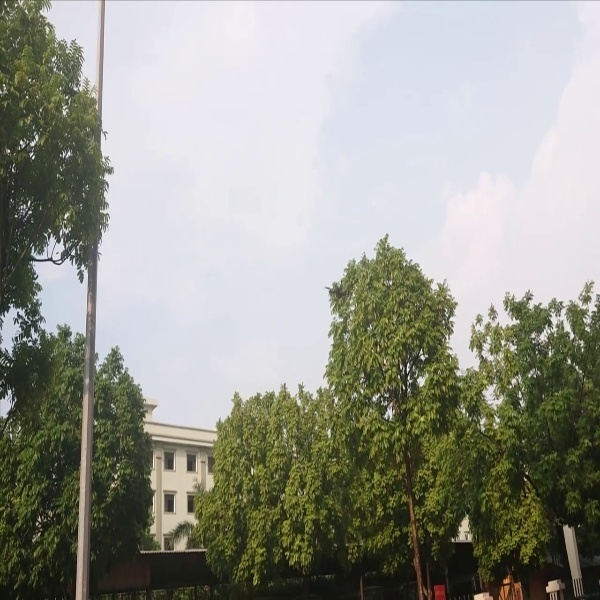drone: (323, 279, 351, 304)
